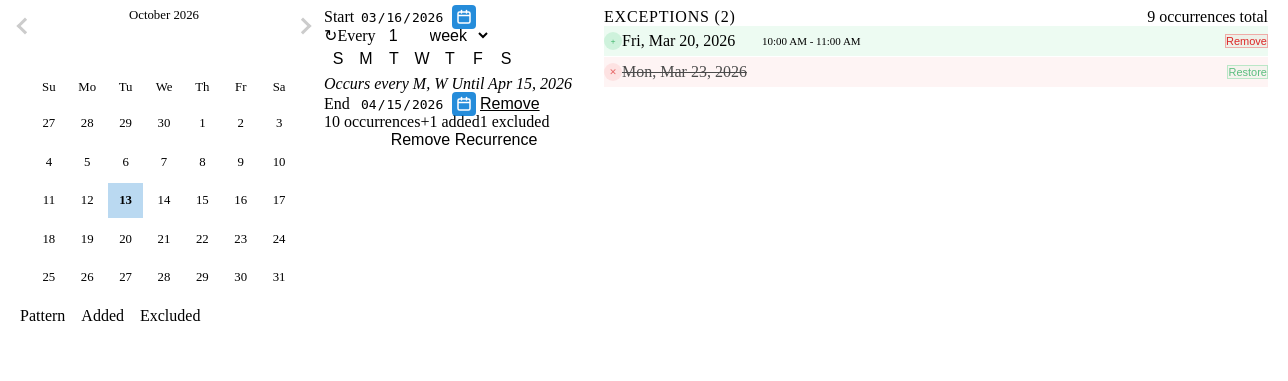
Test: RecurrenceTabContent › Occurrence Detail Editing › back to list returns to occurrence list
The width and height of the screenshot is (1288, 381).
Click the element with class "recurrence-occ-main" that starts with "Fri, Mar 20, 2026". click: (679, 40)
box: [604,26,1268,56]
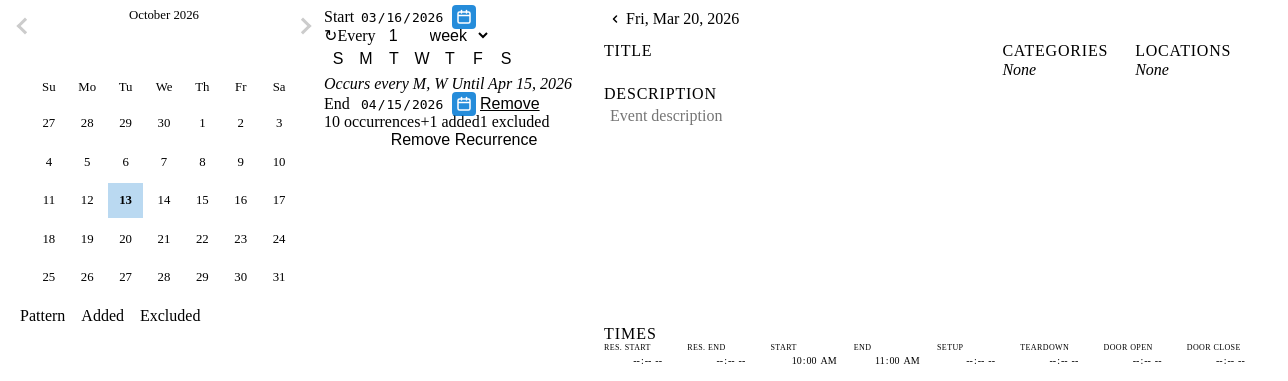
Click the button with class "recurrence-back-btn". click: (615, 19)
box: [604,8,626,30]
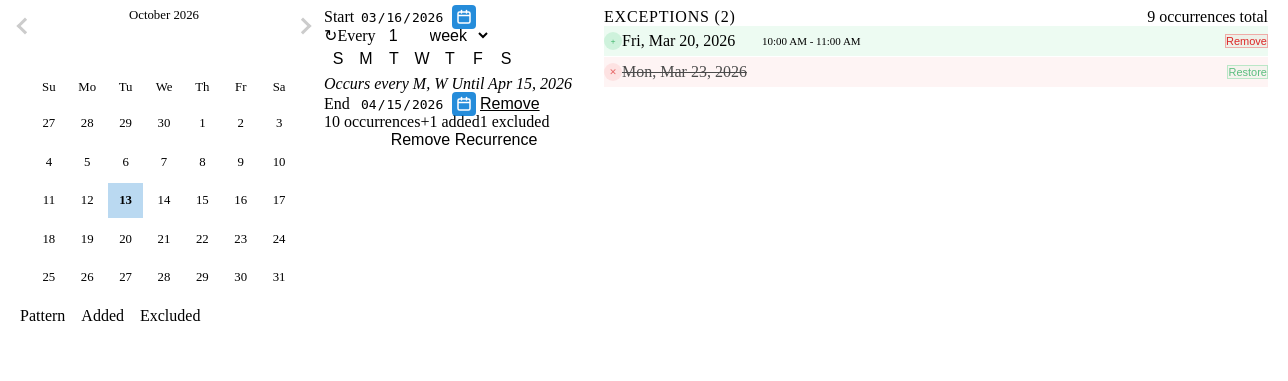
Check: the element with class "recurrence-tab-list-header" is shown, box [604,8,1268,26]
